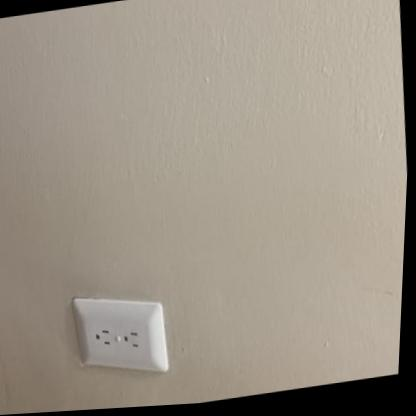OUTLET: (73, 288, 170, 378)
